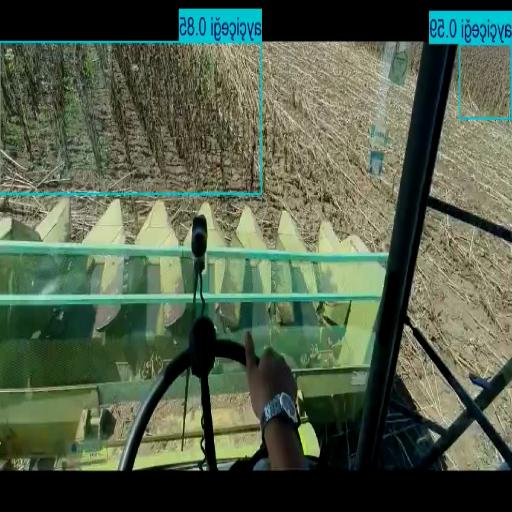ayc: (1, 43, 277, 192), (1, 45, 278, 192)
